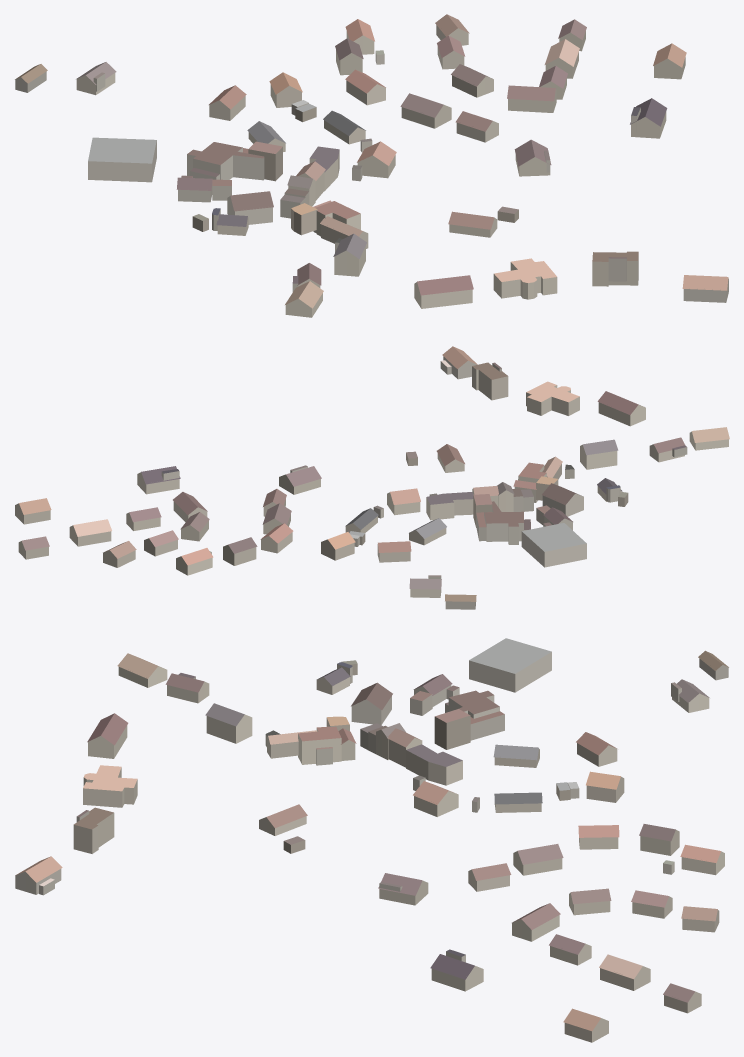
3 renders of one model, top to bottom at view 1: azimuth 30°, elevation 25°; view 2: azimuth 150°, elevation 25°; view 3: azimuth 270°, elevation 25°, orthographic. The views are drawn at different scales.
Visible parts, largest first — view 1: tuile; view 2: tuile; view 3: tuile.
Part boxes in pixels (x1,y1,x2,y2): tuile: (15,14,728,317); tuile: (15,346,729,609); tuile: (15,638,728,1042).
Size of the model in its own units: 269 by 38.04 by 260.
